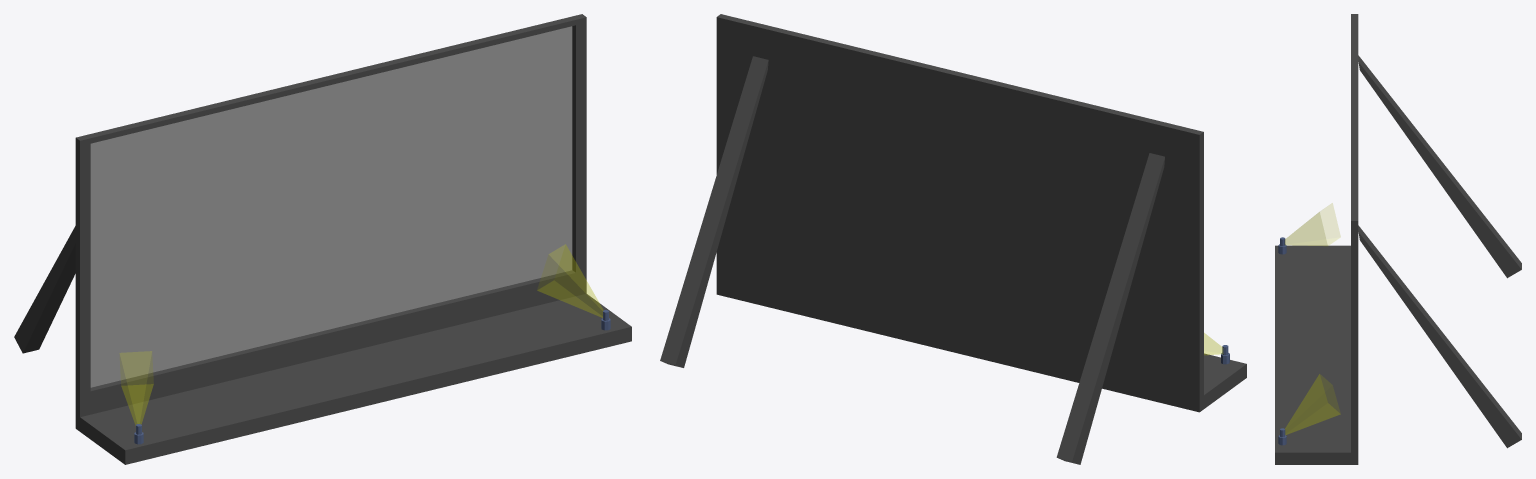
Rendered from GroundBillboard.fbx.
3 views of the same model, side by side, from view 1: azimuth 30°, elevation 25°; view 2: azimuth 150°, elevation 25°; view 3: azimuth 270°, elevation 25° (orthographic). The views are drawn at different scales.
Visible parts, largest first — view 1: pCube11, pCylinder16, pCube13; view 2: pCube11, pCube12, pCube13; view 3: pCube11, pCube13, pCube12, pCylinder16.
Part boxes in pixels (x1,y1,x2,y2): pCube11: [75, 14, 631, 464]; pCylinder16: [120, 244, 610, 444]; pCube13: [14, 226, 75, 353]; pCube11: [716, 14, 1246, 412]; pCube12: [660, 56, 768, 367]; pCube13: [1056, 153, 1164, 464]; pCube11: [1275, 14, 1358, 464]; pCube13: [1358, 55, 1521, 278]; pCube12: [1358, 225, 1521, 448]; pCylinder16: [1278, 203, 1340, 445].
Size of the model in its own units: 119 by 65.6 by 60.15.
